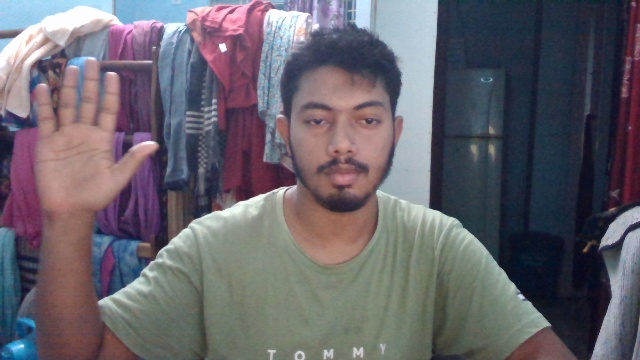hello: (25, 53, 165, 217)
